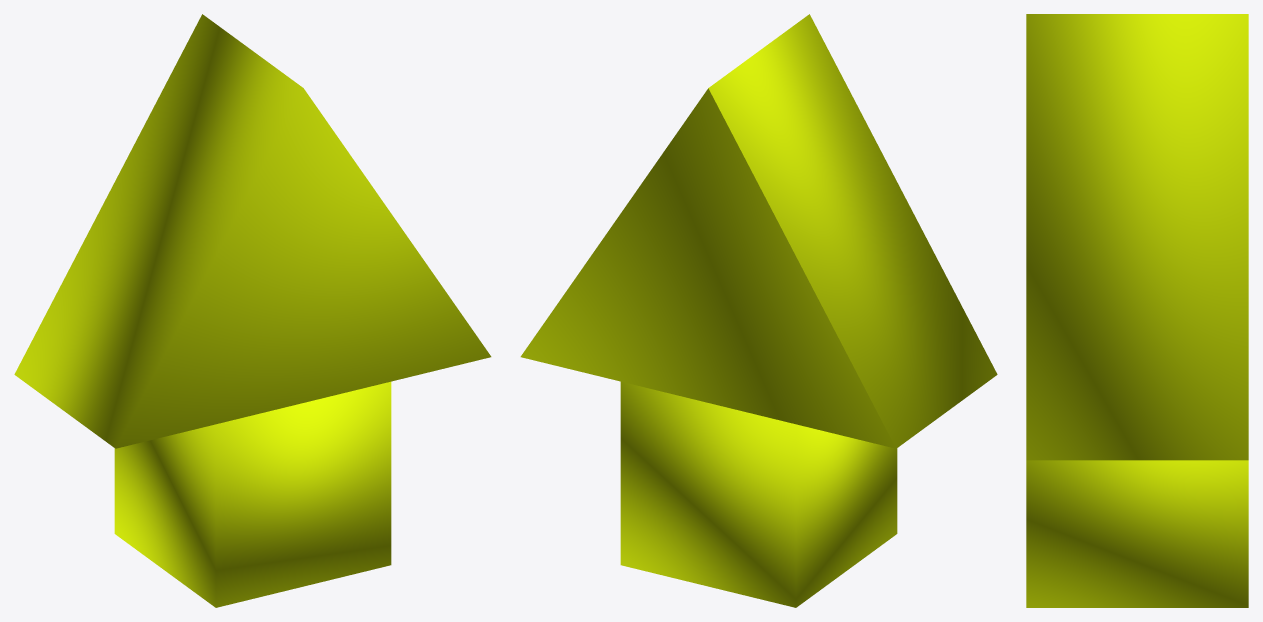
Rendered from ArrowModel.fbx.
The picture shows the model from 3 angles, left to right: view 1: azimuth 30°, elevation 25°; view 2: azimuth 150°, elevation 25°; view 3: azimuth 270°, elevation 25°; orthographic projection. The views are drawn at different scales.
Parts seen in each view (by area): view 1: Cube, Cube.1; view 2: Cube, Cube.1; view 3: Cube, Cube.1.
Part boxes in pixels (x1=…): Cube: x1=14, y1=14, x2=491, y2=448; Cube.1: x1=114, y1=381, x2=391, y2=607; Cube: x1=520, y1=14, x2=997, y2=448; Cube.1: x1=620, y1=381, x2=897, y2=607; Cube: x1=1026, y1=14, x2=1248, y2=460; Cube.1: x1=1026, y1=460, x2=1248, y2=607.
Size of the model in its own units: 30 by 38 by 14.
